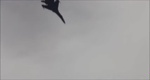maybay_muctieu: (41, 1, 66, 23)
